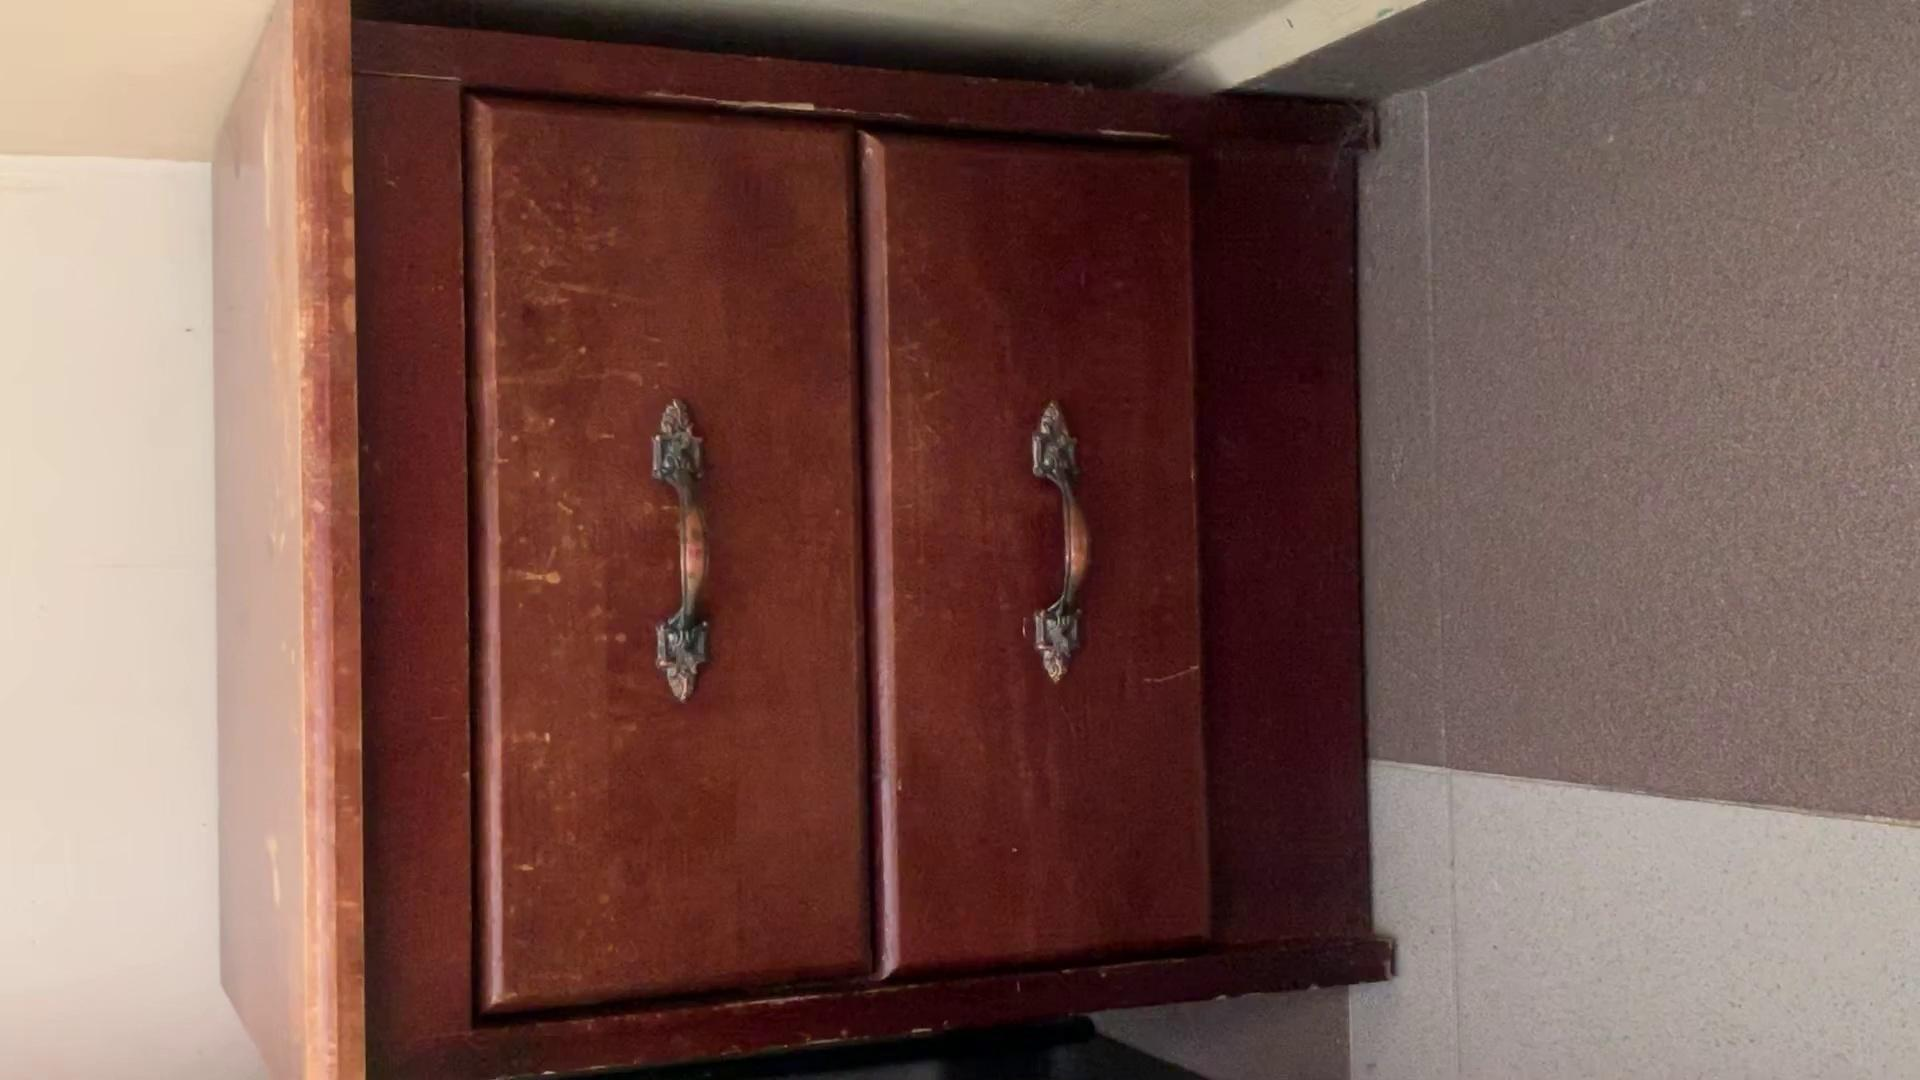cabinet_door: (456, 108, 868, 1006), (866, 129, 1201, 964)
handle: (645, 392, 720, 705), (1021, 397, 1096, 691)
